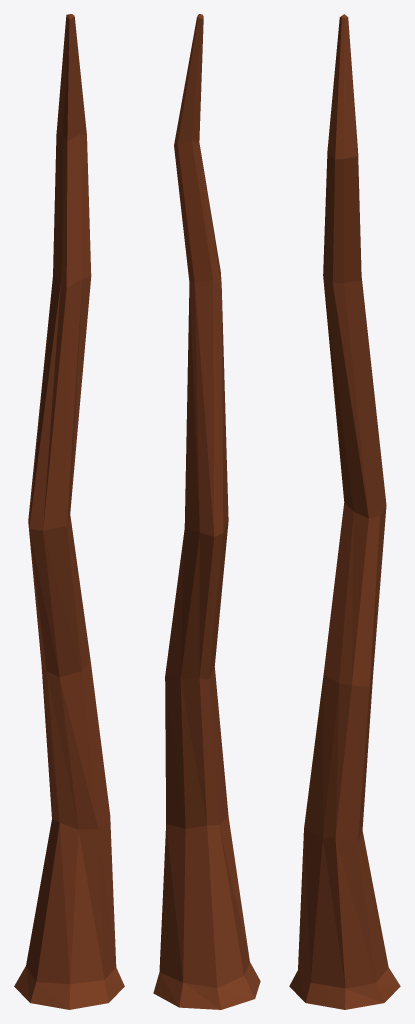
Rendered from burned-tree.glb.
3 views of the same model, side by side, from view 1: azimuth 90°, elevation 25°; view 2: azimuth 150°, elevation 25°; view 3: azimuth 270°, elevation 25° (orthographic).
Visible parts, largest first — view 1: Trunk.1; view 2: Trunk.1; view 3: Trunk.1.
Part boxes in pixels (x1,y1,x2,y2): Trunk.1: (14, 14, 124, 1009); Trunk.1: (153, 14, 260, 1009); Trunk.1: (289, 14, 400, 1009).
Size of the model in its own units: 0.026 by 0.2505 by 0.026.
